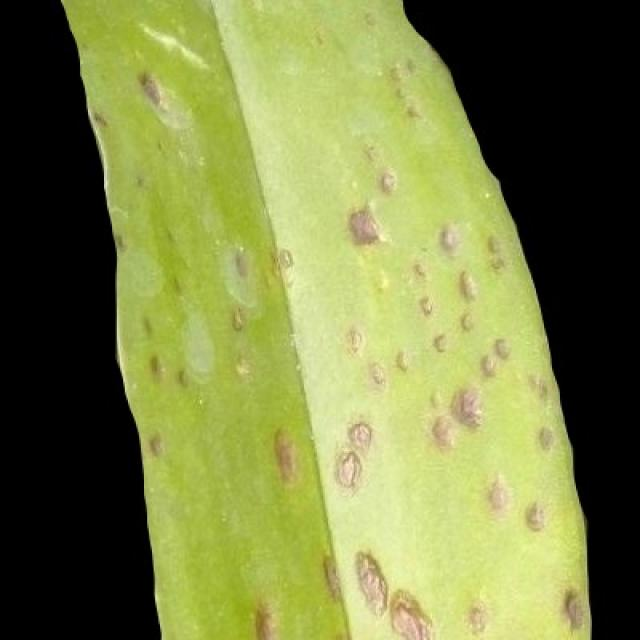mite: (219, 242, 259, 307), (331, 448, 362, 490), (435, 221, 461, 256), (522, 498, 546, 533), (456, 267, 478, 302), (230, 246, 251, 280), (534, 424, 555, 451), (378, 168, 397, 194)
spots: (42, 0, 597, 638)
